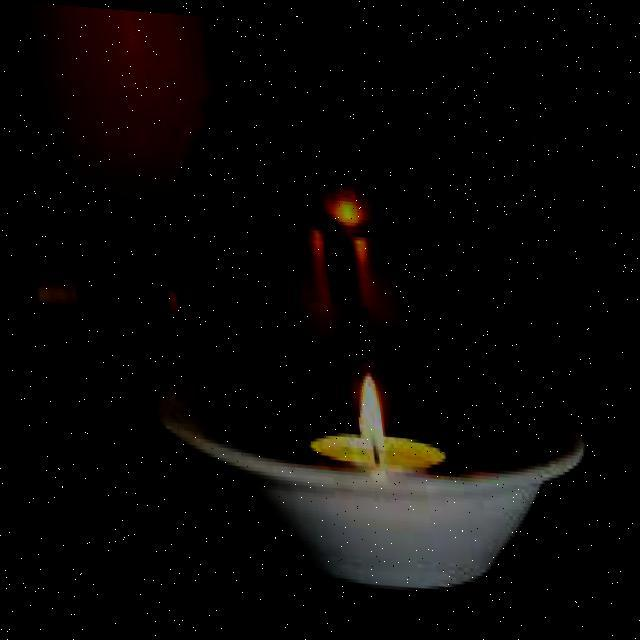Fire: (336, 348, 382, 455)
